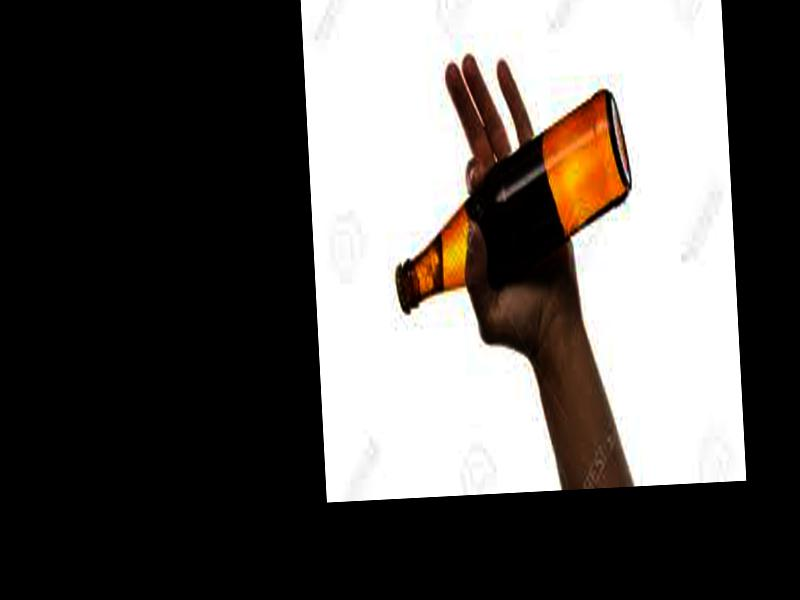Beer: (392, 95, 636, 308)
